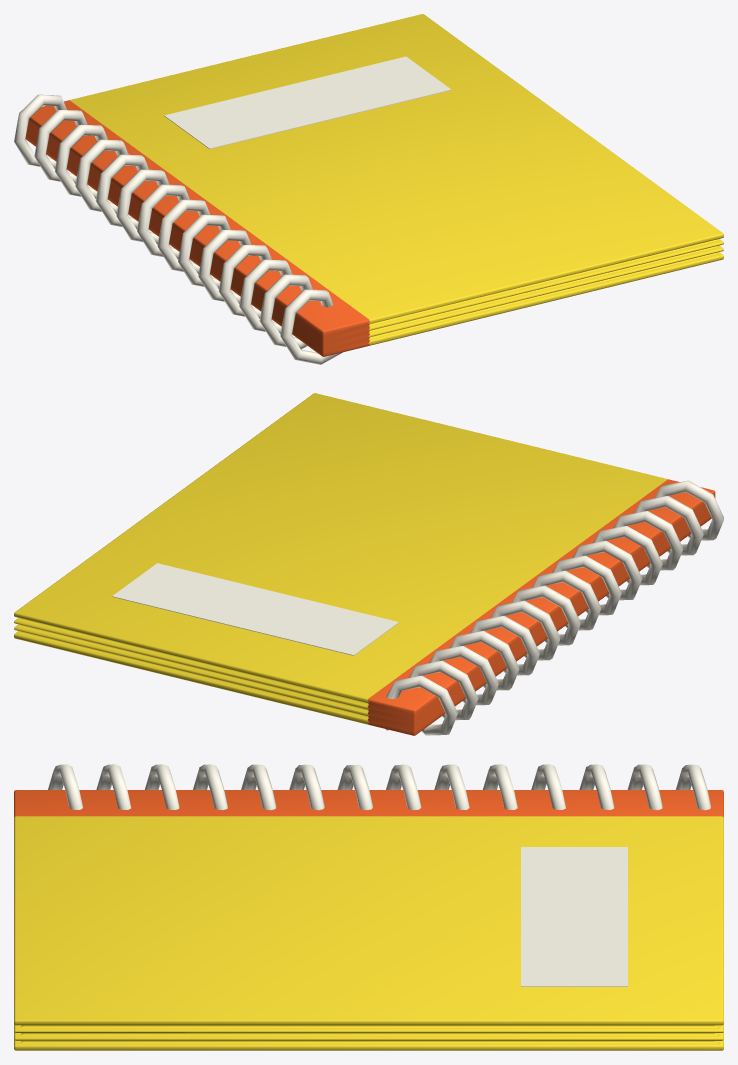
The model's file is note_02_yellow.fbx.
3 renders of one model, top to bottom at view 1: azimuth 30°, elevation 25°; view 2: azimuth 150°, elevation 25°; view 3: azimuth 270°, elevation 25°, orthographic. The views are drawn at different scales.
Parts seen in each view (by area): view 1: note_02_yellow; view 2: note_02_yellow; view 3: note_02_yellow.
Boxes of the visible parts, box(x1,y1,x2,y2) form: note_02_yellow: box(14, 14, 723, 364); note_02_yellow: box(14, 393, 723, 735); note_02_yellow: box(14, 764, 723, 1050).
Size of the model in its own units: 1.9 by 0.2893 by 2.32.
